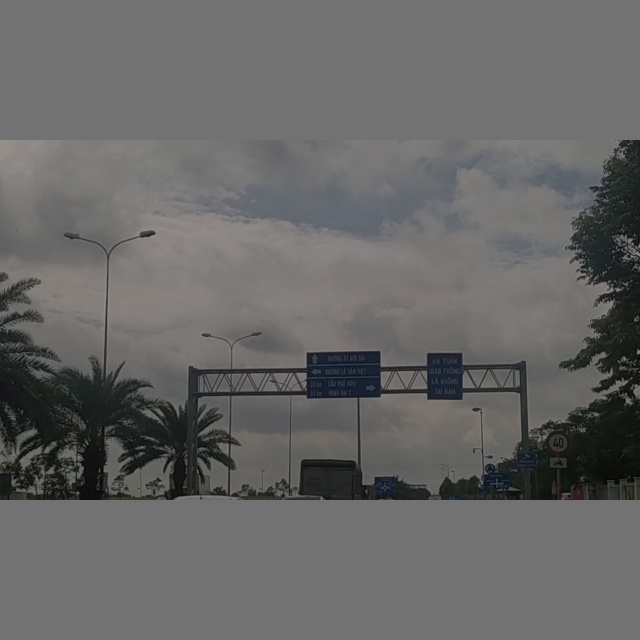P.127*40: (546, 432, 569, 455)
S.505a*Xe may: (548, 455, 569, 469)
